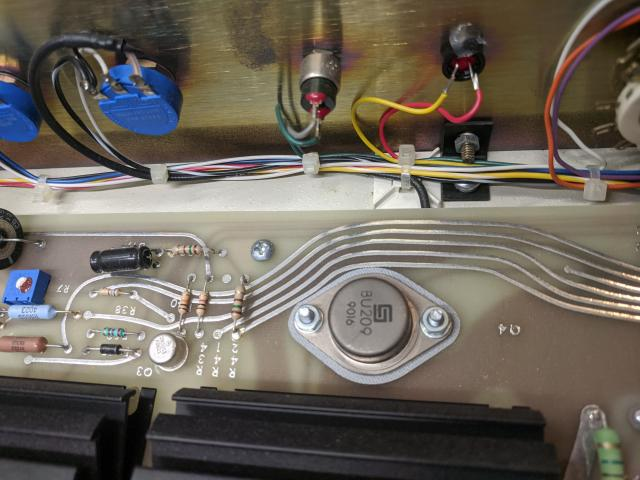CRS: (250, 238, 275, 261)
